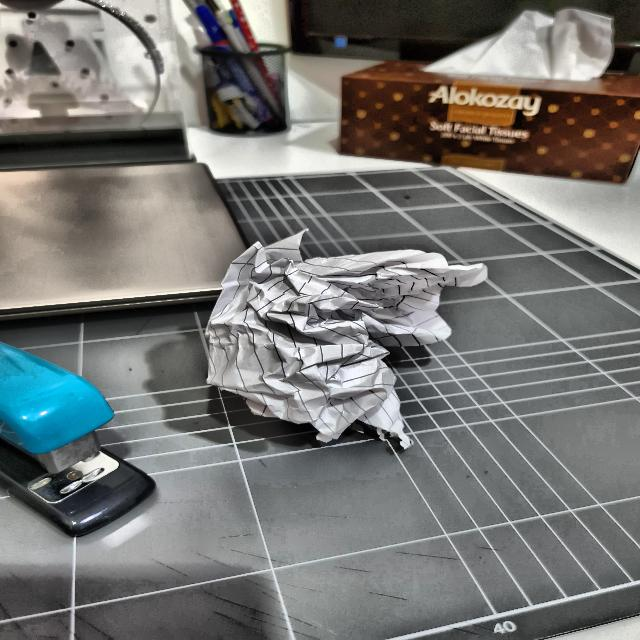Paper: (199, 230, 488, 445)
